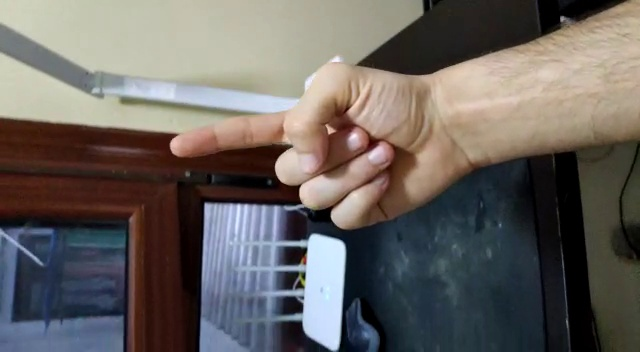One: (167, 57, 463, 232)
